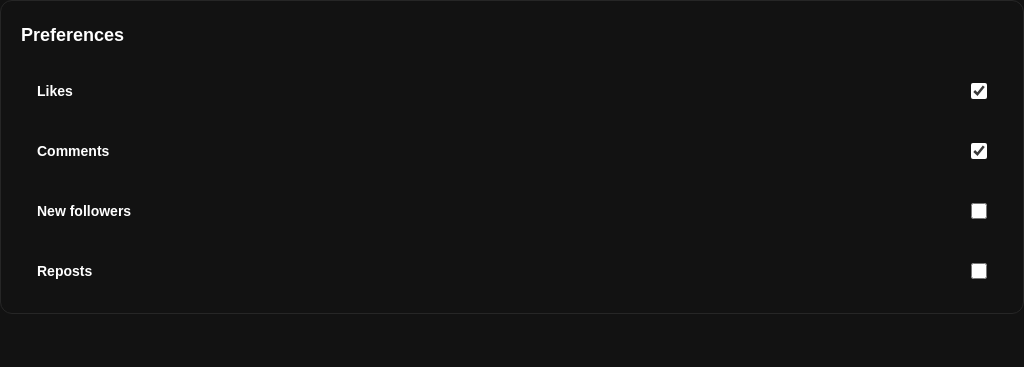
it: NotificationPreferences › reverts optimistic update on save failure and shows error message
Check: the text "Likes" is shown, box x1=37 y1=81 x2=73 y2=101
Click the checkbox labelled "Likes": (979, 91) x1=971 y1=83 x2=987 y2=99
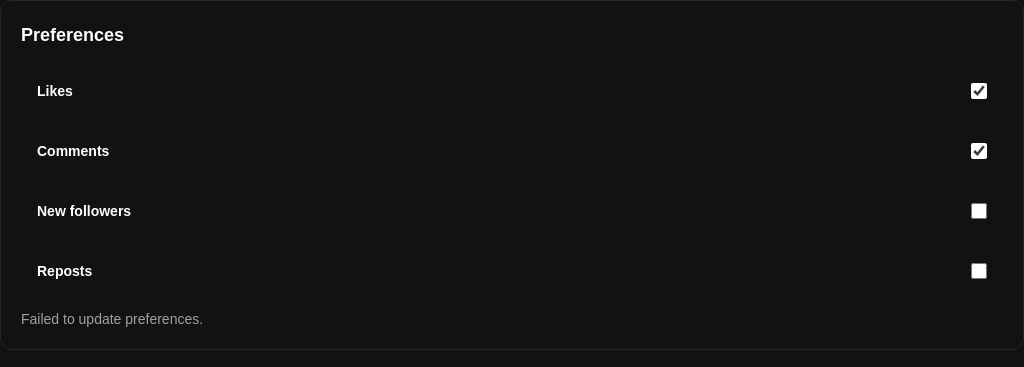
Check: the text "Failed to update preferences." is shown, box x1=21 y1=311 x2=203 y2=327
